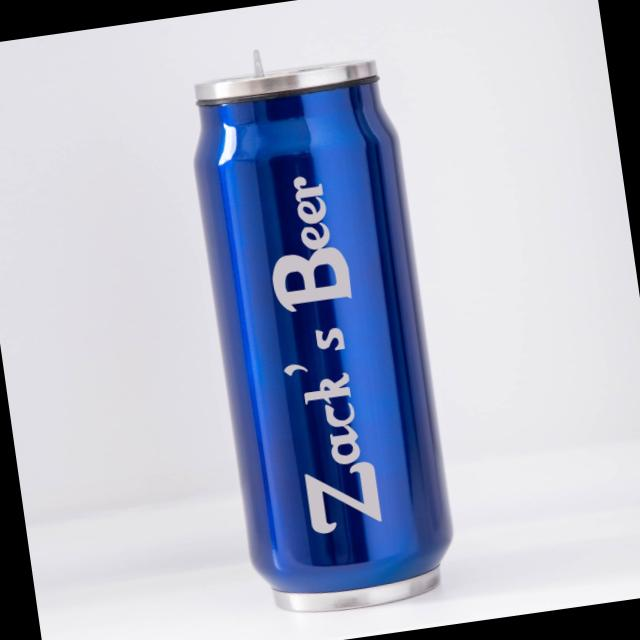soda_can: (163, 24, 500, 630)
